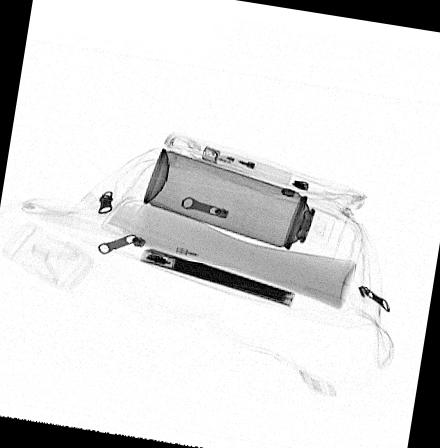Lighter: (202, 145, 294, 187)
Powerbank: (140, 247, 295, 307)
Sprayer: (144, 148, 350, 264)
